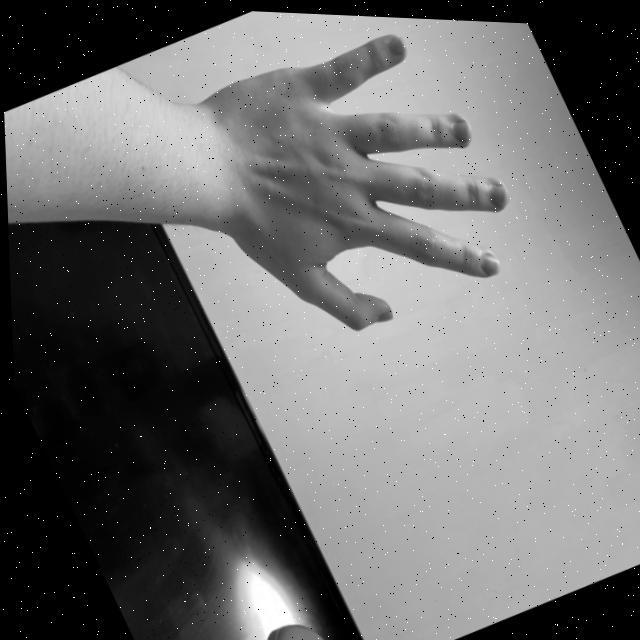no-gloves: (181, 6, 546, 366)
